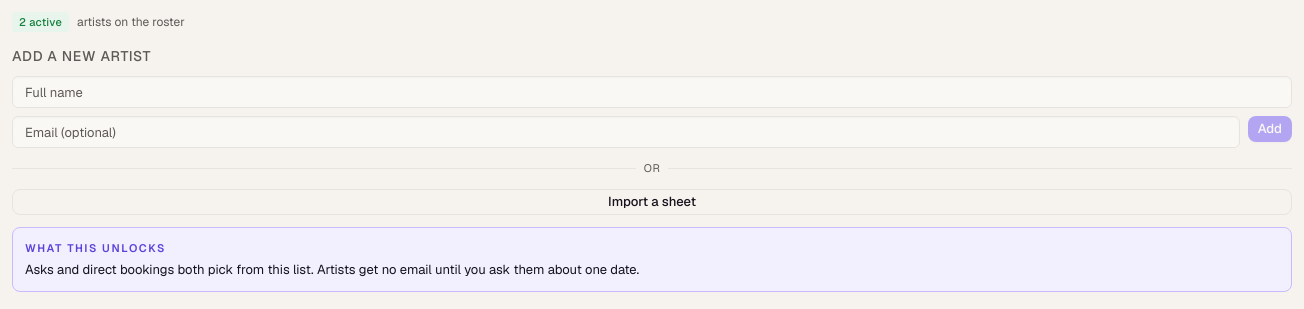
Test: PeoplePanelBody › adds an artist and stays open, clearing the form for the next one
The width and height of the screenshot is (1304, 309).
Type "Lena Nord" into the field labelled "Add a new artist" at (652, 92), box x1=12 y1=76 x2=1292 y2=108
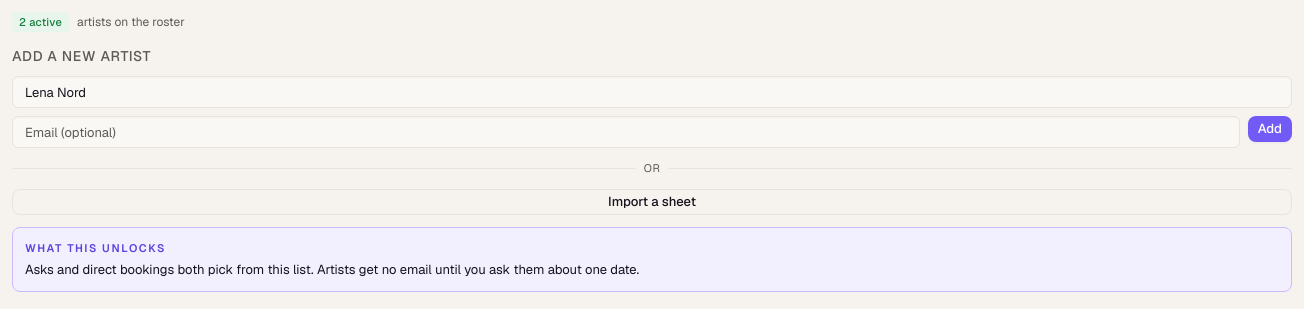
Type "lena@nordstadt.de" into the field with placeholder "Email (optional)" at (626, 132), box x1=12 y1=116 x2=1240 y2=148
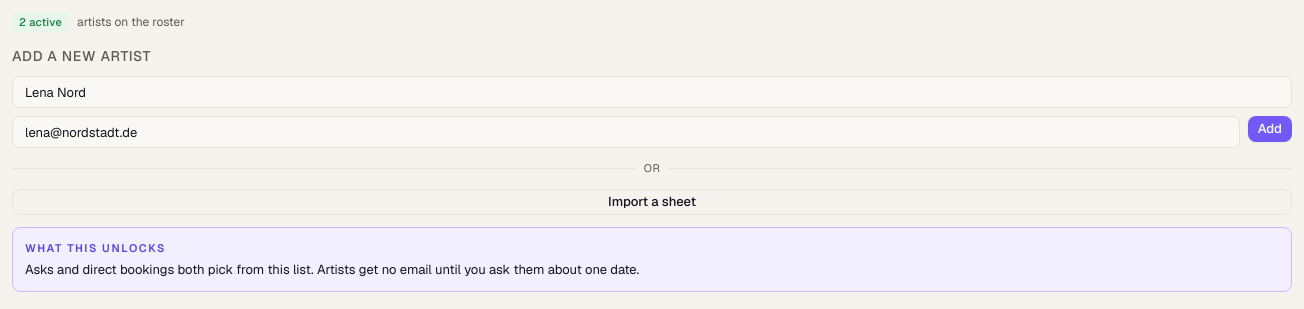
Click the button "Add" at (1270, 129), box x1=1248 y1=116 x2=1292 y2=142
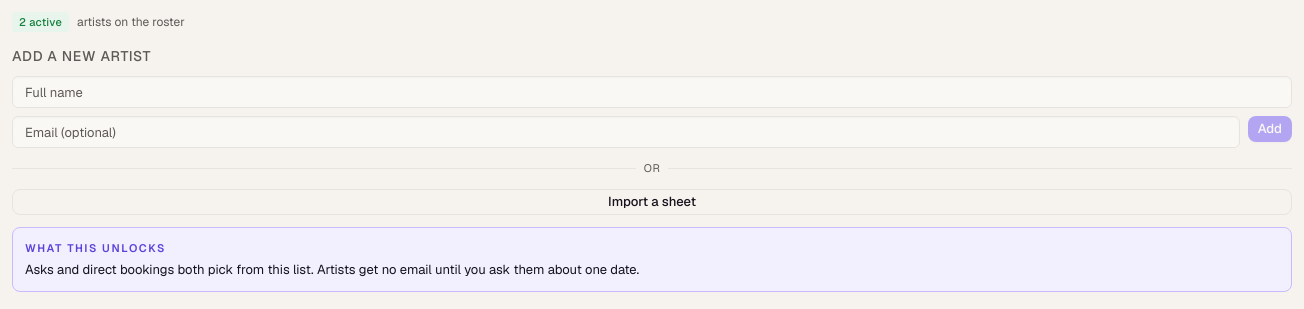
Expected: the field labelled "Add a new artist" is empty, x1=12 y1=76 x2=1292 y2=108
Expected: the field with placeholder "Email (optional)" is empty, x1=12 y1=116 x2=1240 y2=148
